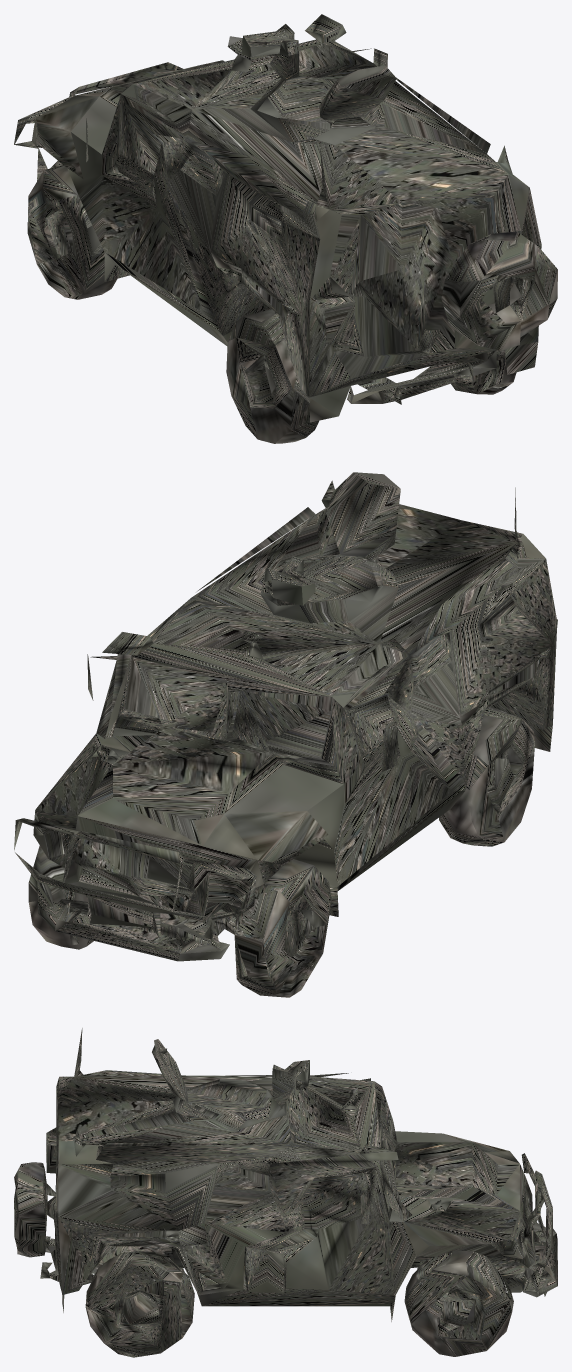
Rendered from gaz_tigr_4x4_17k.glb.
3 renders of one model, top to bottom at view 1: azimuth 30°, elevation 25°; view 2: azimuth 150°, elevation 25°; view 3: azimuth 270°, elevation 25°, orthographic. The views are drawn at different scales.
Visible parts, largest first — view 1: output_unwrapped; view 2: output_unwrapped; view 3: output_unwrapped.
Boxes of the visible parts, left/top/right/bottom form: output_unwrapped: left=14, top=14, right=557, bottom=443; output_unwrapped: left=14, top=472, right=557, bottom=997; output_unwrapped: left=14, top=1028, right=557, bottom=1357.
Bounding box in the file's own units: 2.91 × 3.14 × 5.7.
1 material, 1 textured.
